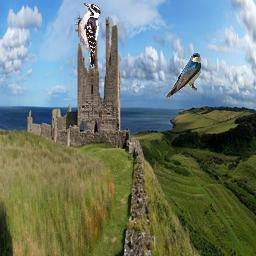Swallow: (164, 51, 203, 98)
Woodpecker: (75, 2, 101, 68)
